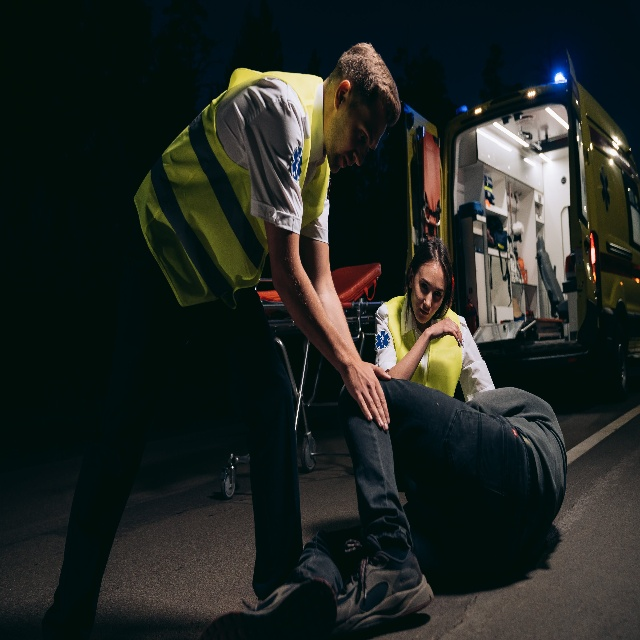Sin_guantes: (346, 351, 393, 425), (425, 320, 465, 350)
